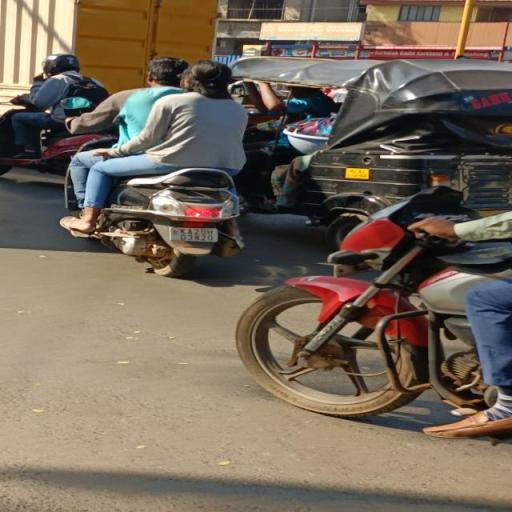bike: (62, 53, 272, 277)
numberplate: (170, 228, 218, 242)
withouthelmet: (184, 61, 232, 89), (145, 56, 184, 88)
